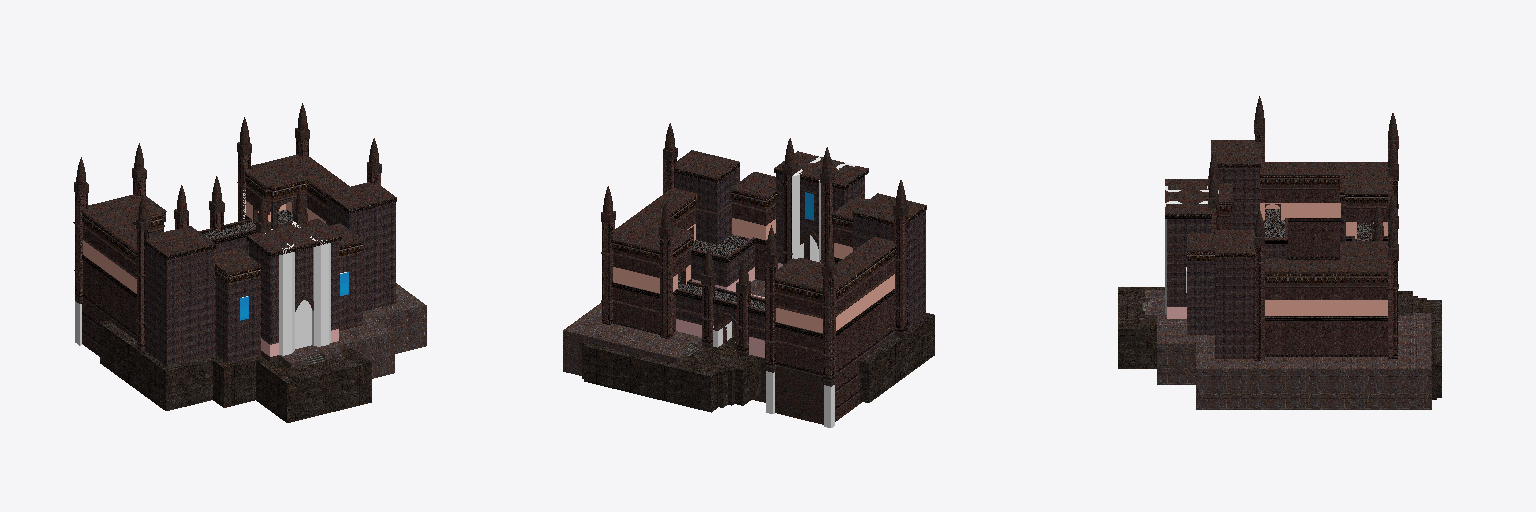
3 renders of one model, left to right at view 1: azimuth 30°, elevation 25°; view 2: azimuth 150°, elevation 25°; view 3: azimuth 270°, elevation 25°, orthographic.
Parts seen in each view (by area): view 1: entity0_brush760, entity0_brush275, entity0_brush763, entity0_brush147, entity0_brush146, entity0_brush134, entity0_brush143, entity0_brush761, entity0_brush565, entity0_brush205, entity0_brush762, entity0_brush144 (+20 smaller); view 2: entity0_brush763, entity0_brush886, entity0_brush885, entity0_brush275, entity0_brush178, entity0_brush565, entity0_brush136, entity0_brush564, entity0_brush704, entity0_brush147, entity0_brush273, entity0_brush789 (+27 smaller); view 3: entity0_brush136, entity0_brush275, entity0_brush477, entity0_brush760, entity0_brush134, entity0_brush479, entity0_brush199, entity0_brush476, entity0_brush480, entity0_brush516, entity0_brush144, entity0_brush639 (+21 smaller).
Part boxes in pixels (bbox=[...]): entity0_brush760: bbox=[256, 348, 371, 422]; entity0_brush275: bbox=[326, 198, 395, 310]; entity0_brush763: bbox=[100, 321, 176, 410]; entity0_brush147: bbox=[145, 274, 188, 366]; entity0_brush146: bbox=[218, 277, 256, 363]; entity0_brush134: bbox=[331, 314, 394, 378]; entity0_brush143: bbox=[189, 279, 214, 360]; entity0_brush761: bbox=[213, 356, 262, 407]; entity0_brush565: bbox=[82, 284, 136, 356]; entity0_brush205: bbox=[247, 223, 328, 256]; entity0_brush762: bbox=[173, 355, 218, 408]; entity0_brush144: bbox=[339, 251, 362, 330]; entity0_brush763: bbox=[860, 313, 934, 402]; entity0_brush886: bbox=[584, 342, 671, 401]; entity0_brush885: bbox=[667, 346, 740, 412]; entity0_brush275: bbox=[674, 167, 739, 244]; entity0_brush178: bbox=[775, 369, 823, 424]; entity0_brush565: bbox=[835, 318, 894, 421]; entity0_brush136: bbox=[563, 302, 604, 375]; entity0_brush564: bbox=[836, 294, 894, 359]; entity0_brush704: bbox=[589, 330, 686, 363]; entity0_brush147: bbox=[908, 240, 925, 328]; entity0_brush273: bbox=[674, 150, 739, 182]; entity0_brush789: bbox=[727, 355, 760, 405]; entity0_brush136: bbox=[1196, 356, 1431, 409]; entity0_brush275: bbox=[1215, 258, 1254, 358]; entity0_brush477: bbox=[1265, 321, 1387, 344]; entity0_brush760: bbox=[1118, 287, 1164, 368]; entity0_brush134: bbox=[1157, 315, 1205, 384]; entity0_brush479: bbox=[1265, 300, 1387, 315]; entity0_brush199: bbox=[1167, 219, 1210, 291]; entity0_brush476: bbox=[1265, 345, 1387, 356]; entity0_brush480: bbox=[1265, 288, 1387, 299]; entity0_brush516: bbox=[1345, 241, 1387, 273]; entity0_brush144: bbox=[1187, 261, 1205, 334]; entity0_brush639: bbox=[1287, 222, 1340, 246].
Size of the model in its own units: 1936 by 1440 by 2112.
Materials: 33 (19 with a texture image).